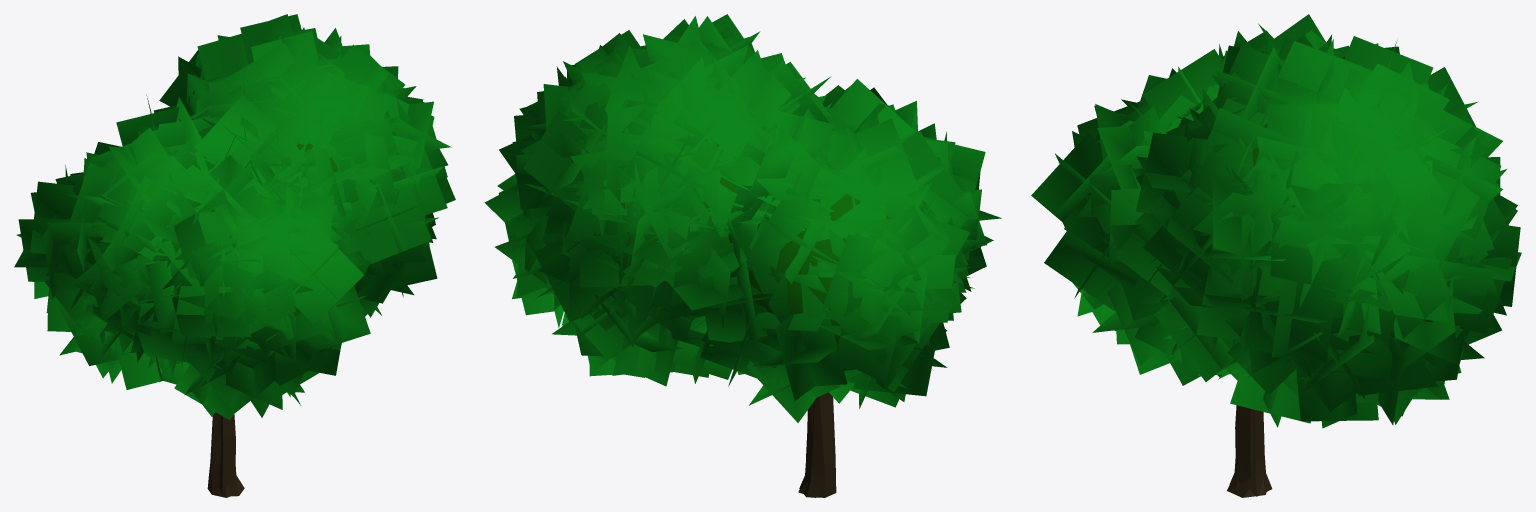
File: Tree3.FBX
3 views of the same model, side by side, from view 1: azimuth 30°, elevation 25°; view 2: azimuth 150°, elevation 25°; view 3: azimuth 270°, elevation 25° (orthographic). The views are drawn at different scales.
Visible parts, largest first — view 1: Tree3; view 2: Tree3; view 3: Tree3.
Part boxes in pixels (x1,y1,x2,y2): Tree3: (14, 14, 455, 497); Tree3: (484, 14, 1001, 497); Tree3: (1031, 14, 1521, 497).
Bounding box in the file's own units: 53.43 × 51.61 × 45.81.
